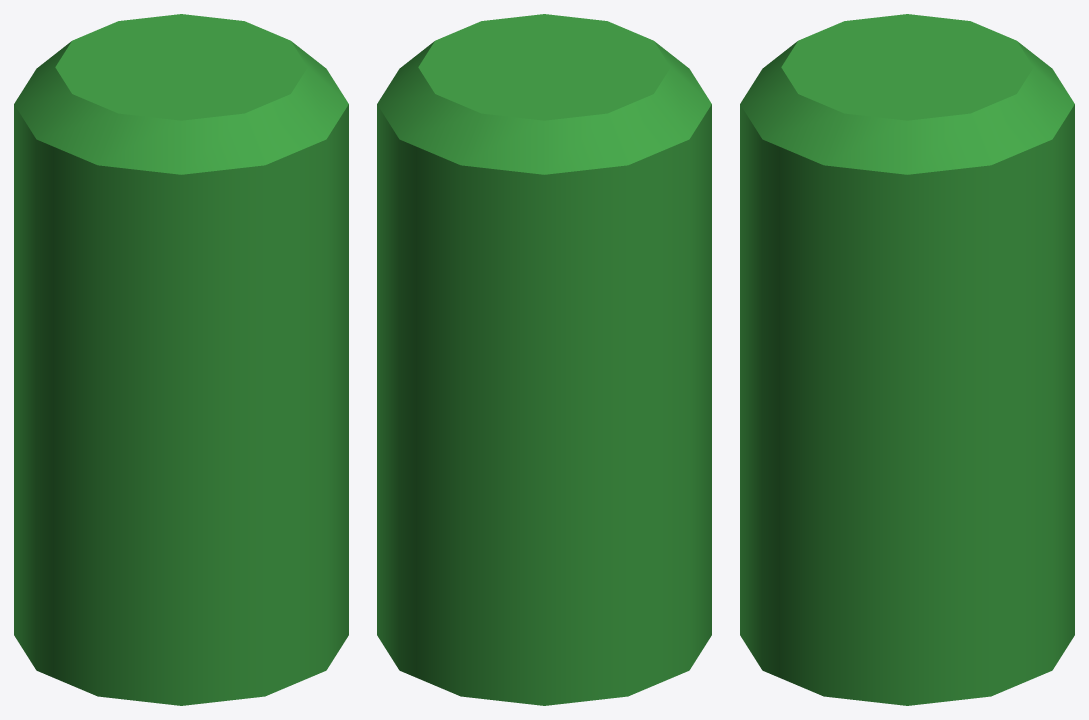
Rendered from prop barrel.FBX.
3 renders of one model, left to right at view 1: azimuth 30°, elevation 25°; view 2: azimuth 150°, elevation 25°; view 3: azimuth 270°, elevation 25°, orthographic.
Visible parts, largest first — view 1: Cylinder020; view 2: Cylinder020; view 3: Cylinder020.
Boxes of the visible parts, x1,y1,x2,y2 form: Cylinder020: (14,14,348,705); Cylinder020: (377,14,711,705); Cylinder020: (740,14,1074,705).
Bounding box in the file's own units: 0.8 × 1.5 × 0.8.
